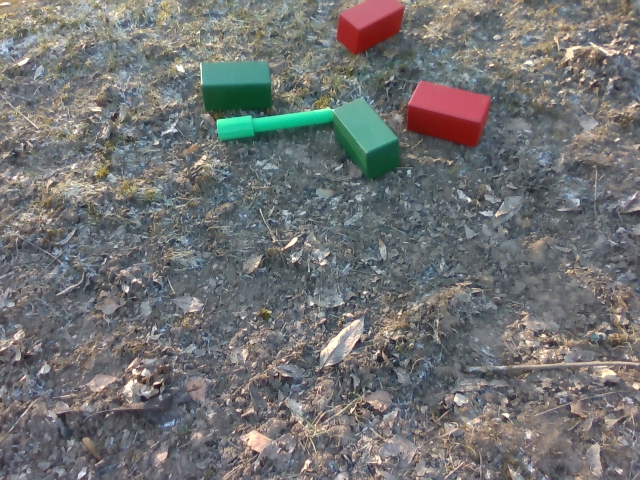Probe: (213, 104, 353, 147)
